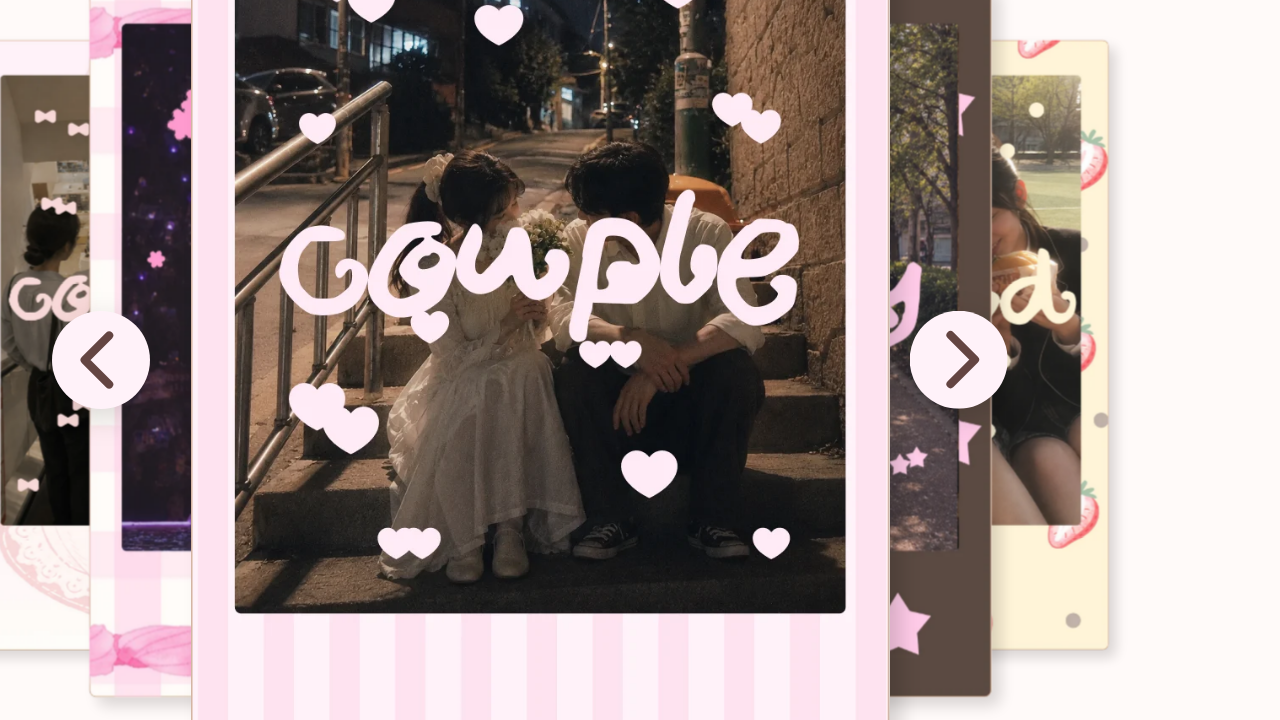
Test: ExperienceRoot › 관계 화면에서 선택하기를 누르면 고른 관계를 저장하고 다음 단계로 간다
This screenshot has width=1280, height=720.
(page scrolled)
Click the button named "다음 카드".
click(959, 360)  # box top-left (910, 311), bottom-right (1008, 409)
(page scrolled)
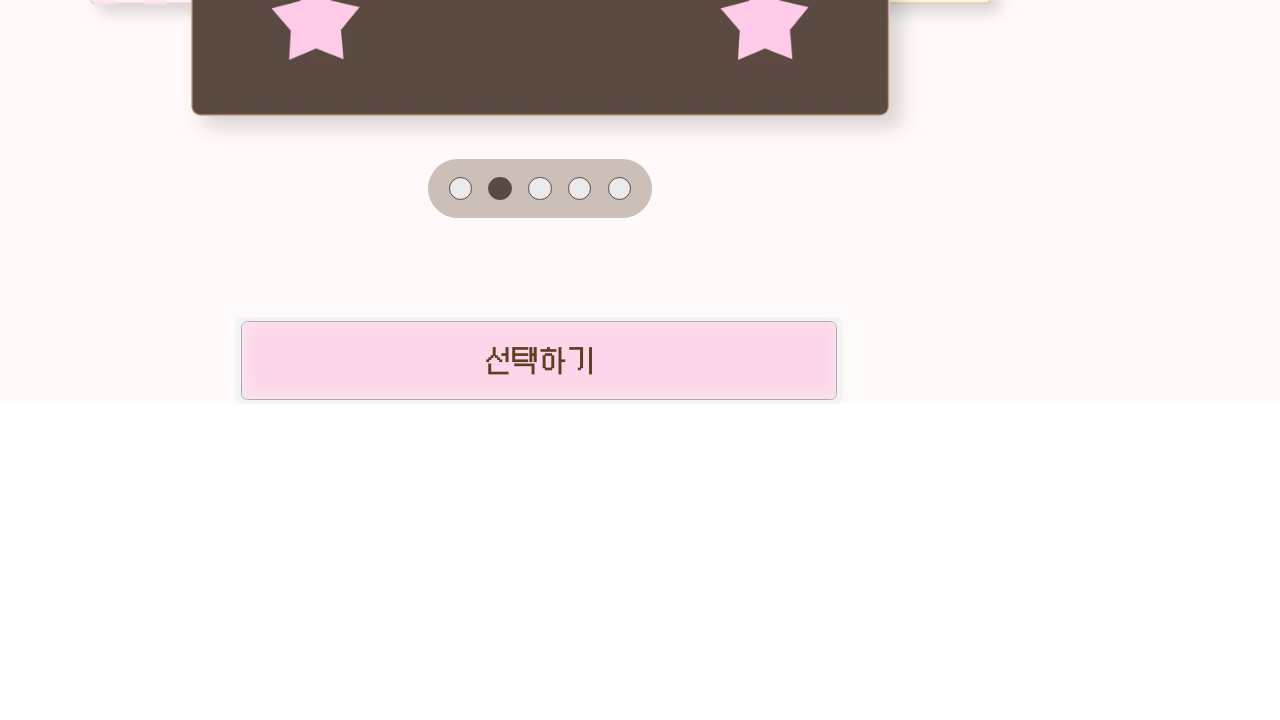
Click the button "선택하기".
click(539, 361)  # box top-left (235, 317), bottom-right (843, 404)
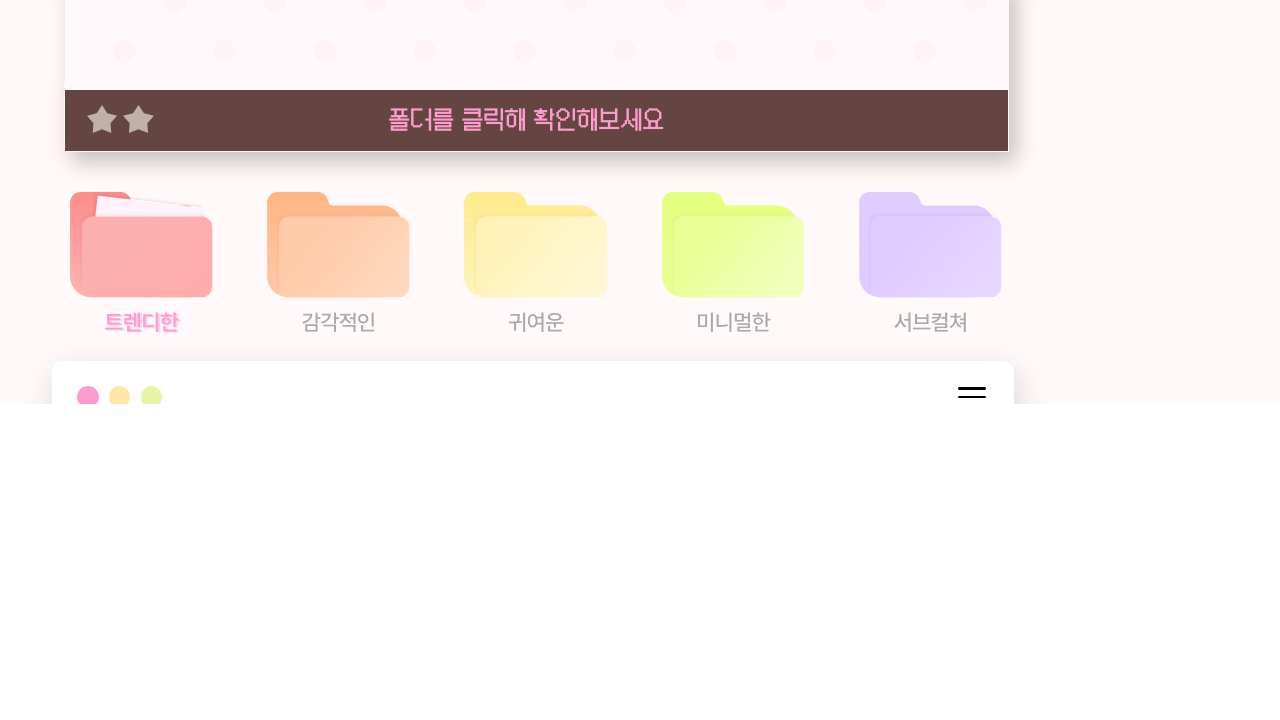
Expected: the button with aria-label "Trendsetter 폴더" is shown, top-left (70, 192), bottom-right (213, 298)
